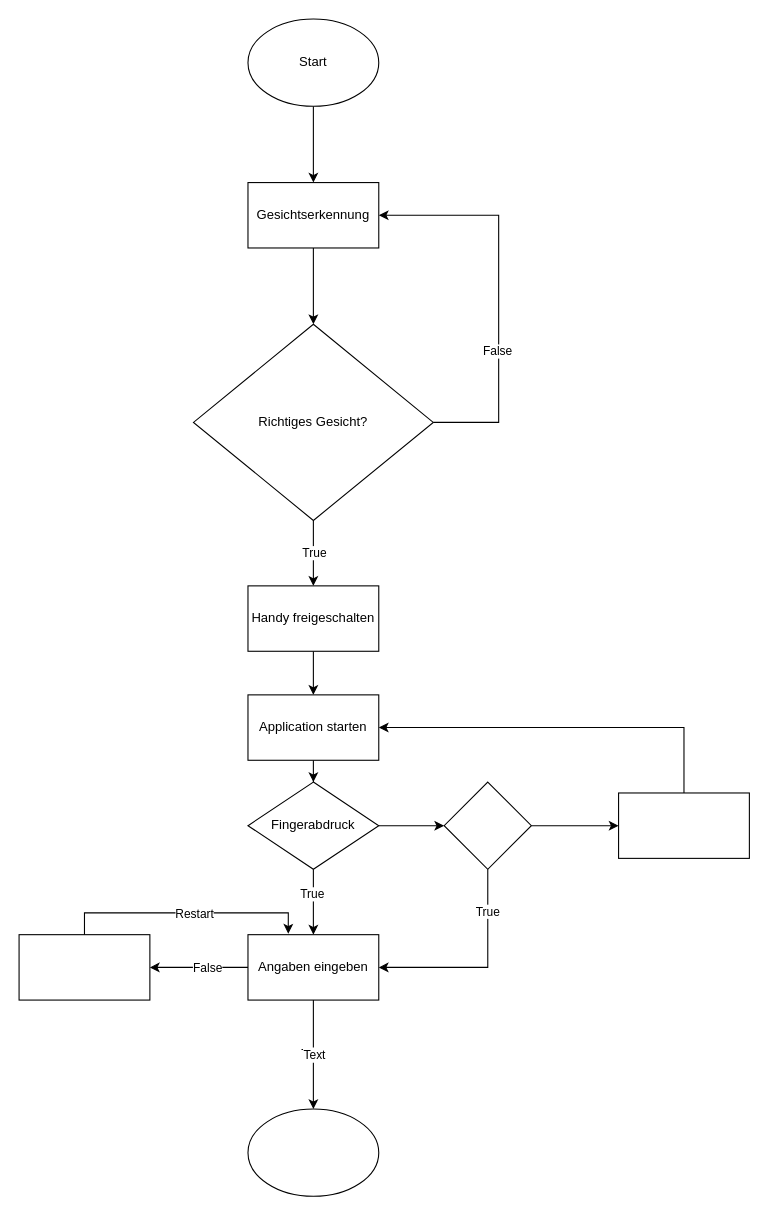
Some shapes in this 768 by 1215 pixel diagram are drawn without their labels. Each missing label, with the box of its shape:
1h Sperre: (617, 792, 749, 858)
Ende: (247, 1108, 379, 1196)
Passwort: (443, 781, 531, 869)
Warnmeldung: (18, 934, 150, 1000)
